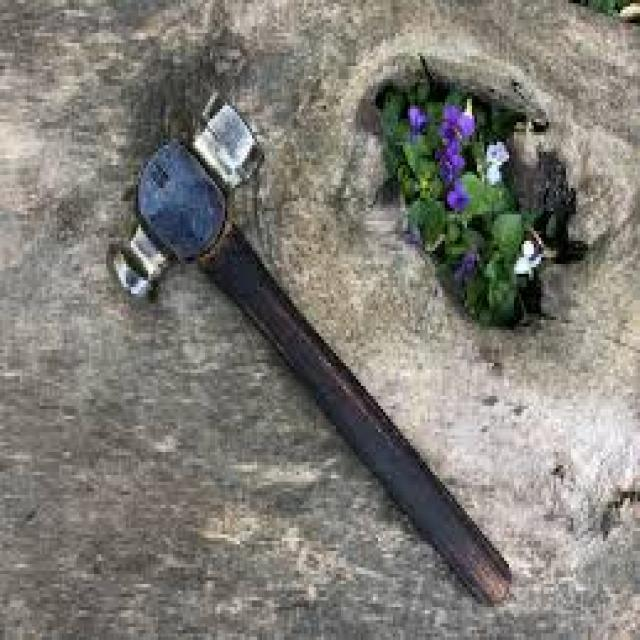hammer: (105, 89, 523, 610)
